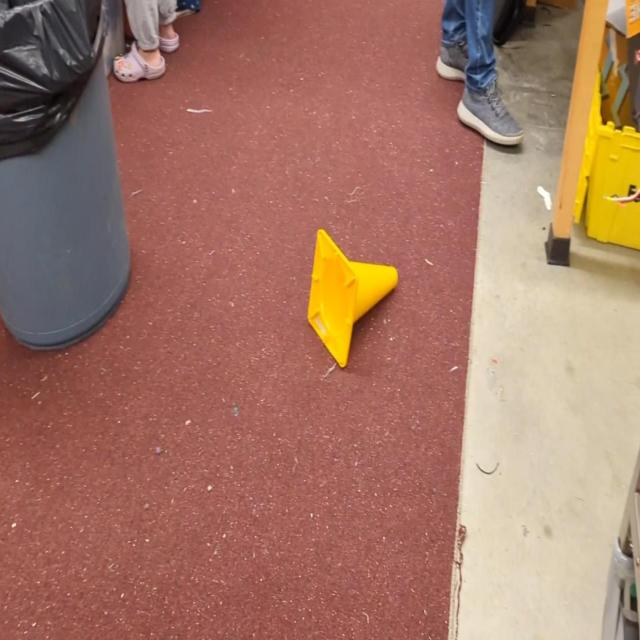frc_cone: (308, 226, 399, 370)
